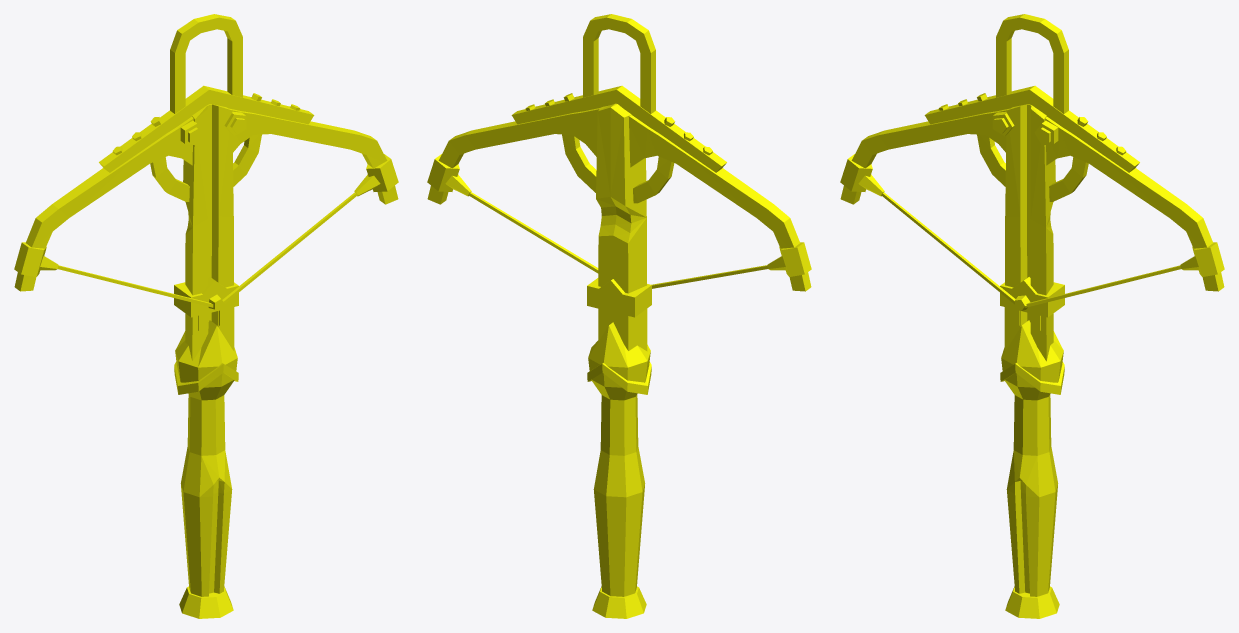
File: _crossbow_16.glb
The picture shows the model from 3 angles, left to right: view 1: azimuth 30°, elevation 25°; view 2: azimuth 150°, elevation 25°; view 3: azimuth 330°, elevation 25°; orthographic projection.
Parts seen in each view (by area): view 1: crossbow_16; view 2: crossbow_16; view 3: crossbow_16.
Part boxes in pixels (bbox=[...]): crossbow_16: bbox=[14, 14, 398, 618]; crossbow_16: bbox=[427, 14, 811, 618]; crossbow_16: bbox=[840, 14, 1224, 618].
Size of the model in its own units: 0.6355 by 0.9462 by 0.0999.
1 material, 1 textured.
